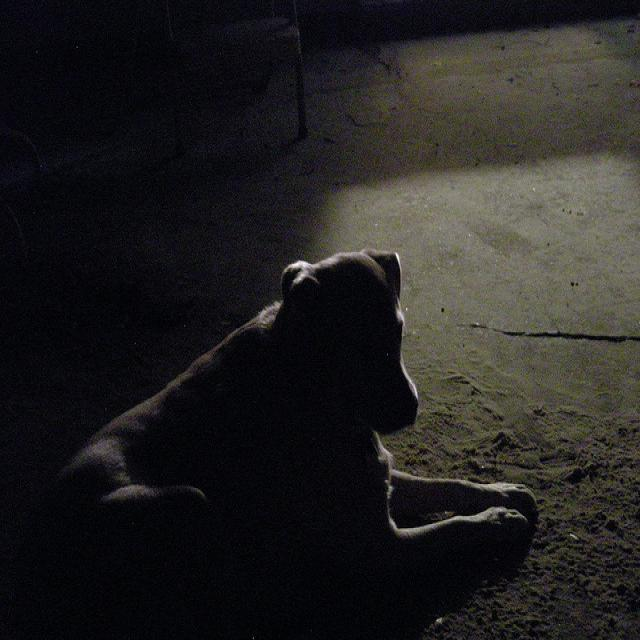Dog: (136, 224, 502, 624)
